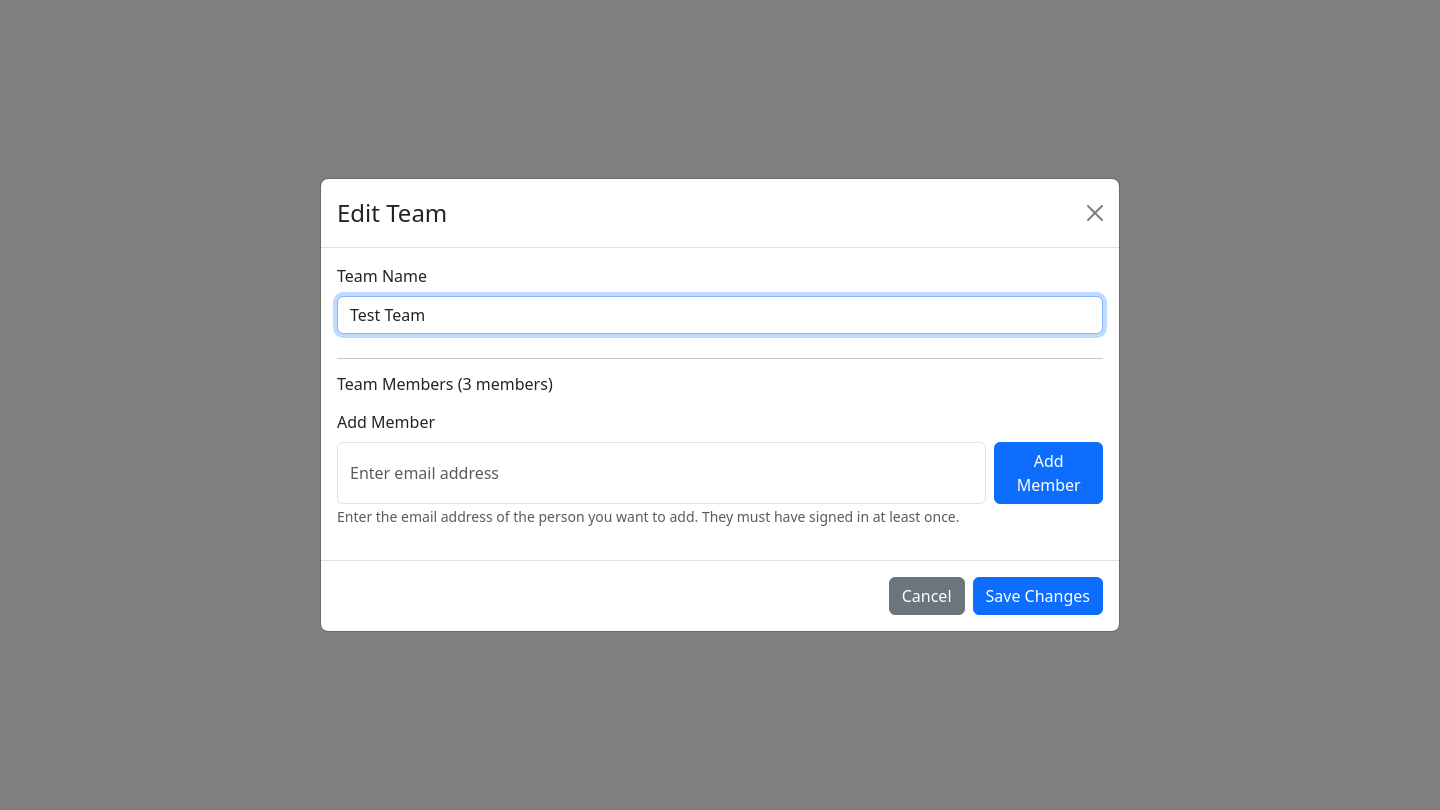
Test case: EditTeamModal › Adding Members › should show error when email is invalid
Expected: the heading "Team Members (3 members)" is shown, [337, 373, 553, 395]
Type "invalid-email" into the field with placeholder "Enter email address" at (662, 473), box [337, 442, 986, 504]
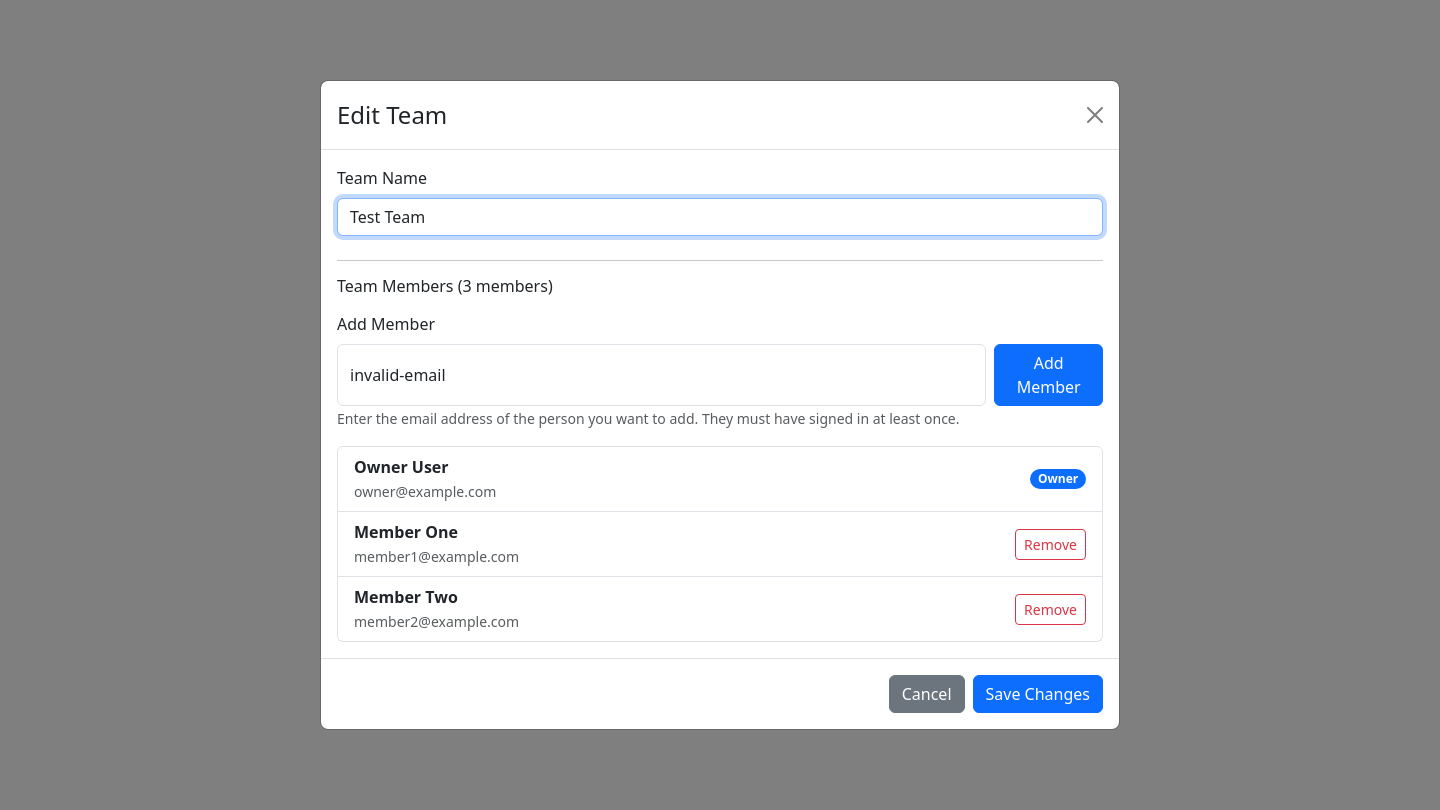
Click the button "Add Member" at (1049, 375), box [994, 344, 1103, 406]
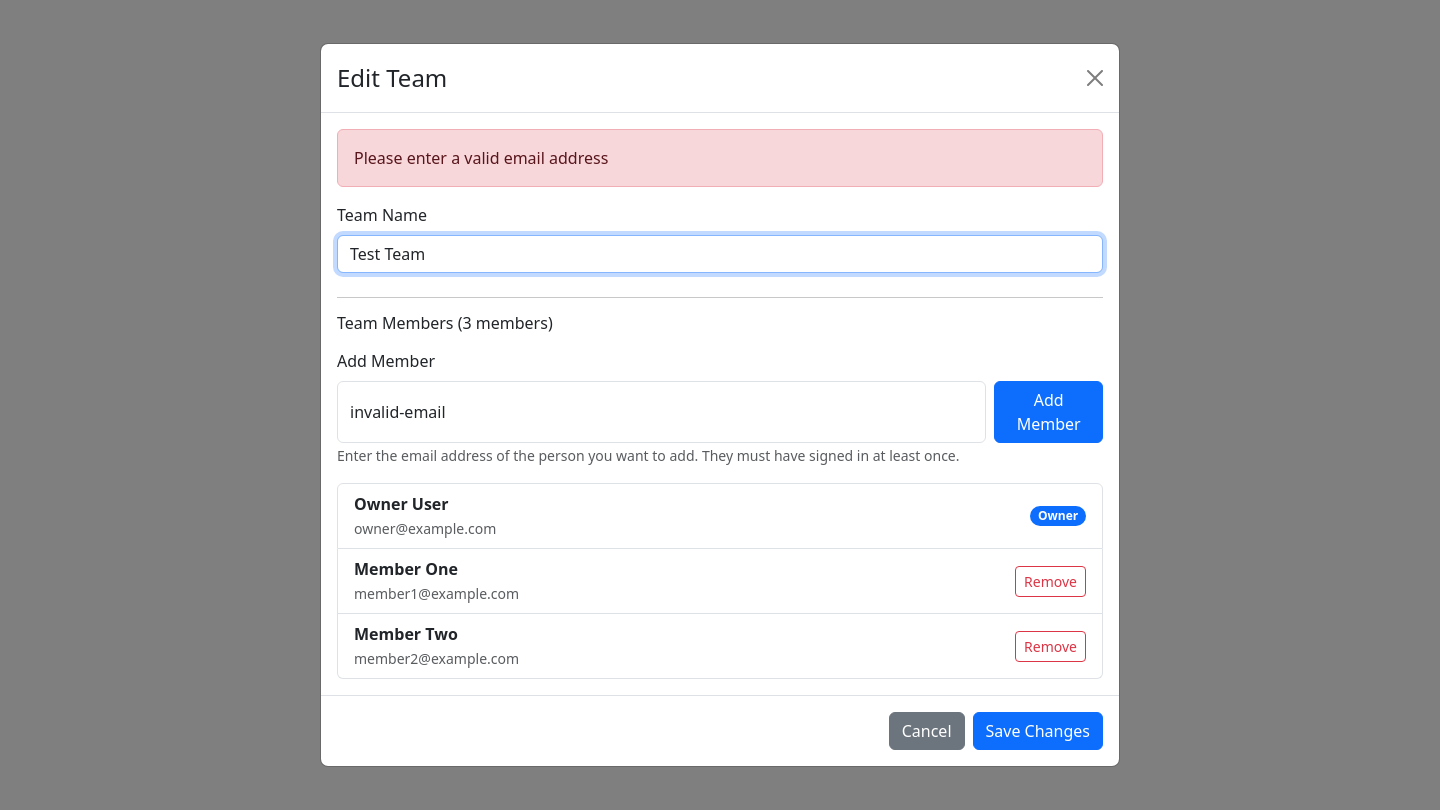
Expected: the text "Please enter a valid email address" is shown, [337, 129, 1103, 187]
